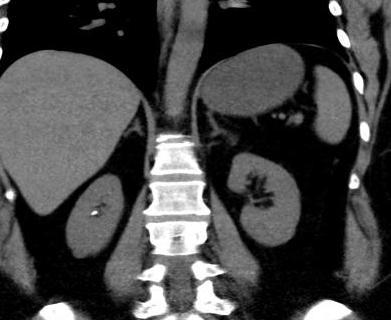Tas_Var: (88, 208, 100, 218)
